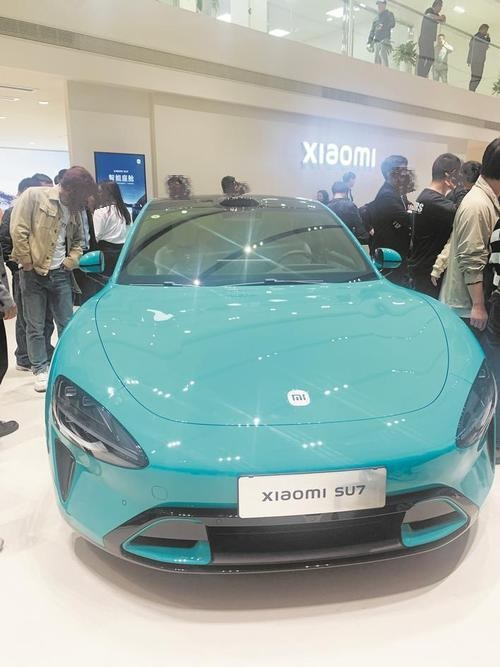XIAOMI: (287, 389, 310, 406)
